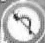Don't turn left: (2, 2, 41, 40)
